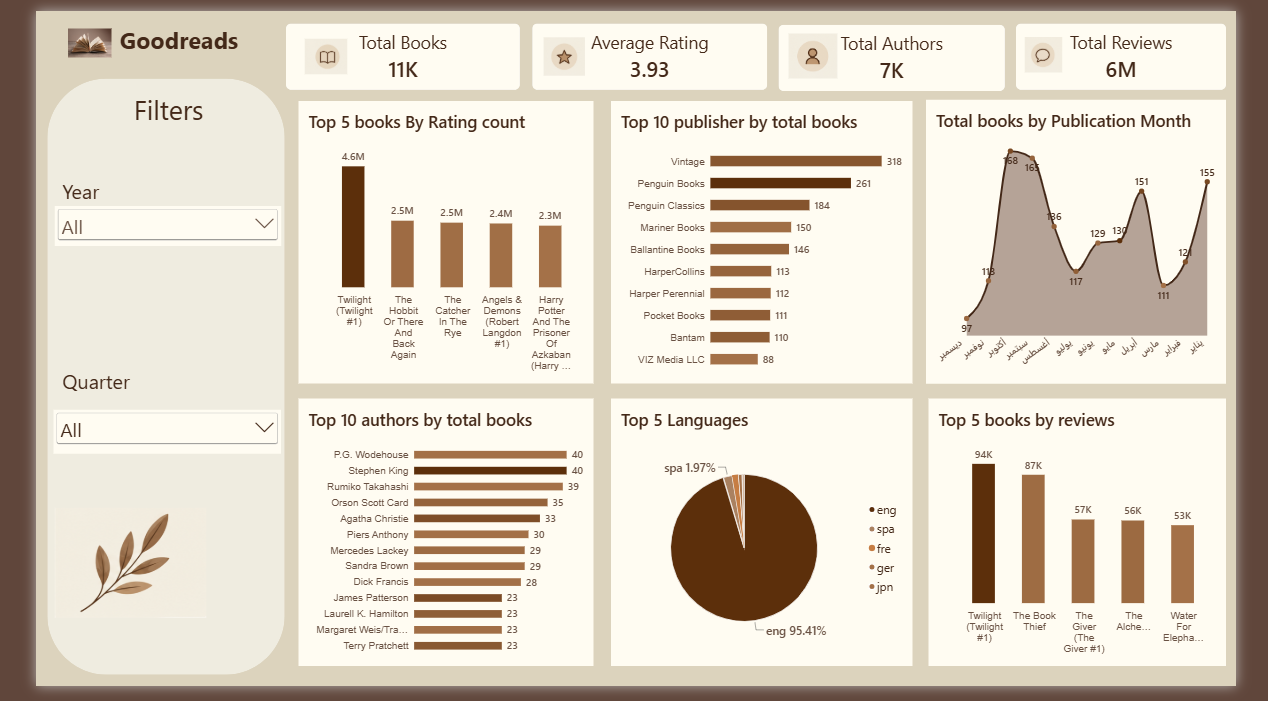

The dashboard page shown, as its layout file describes it:
{"tool":"powerbi","page":{"name":"Overview","canvas":[1920,1080],"ordinal":1},"visuals":[{"type":"cardVisual","fields":{"Data":["Measure.Total Books"]},"box":[400,20,374,106],"z":0},{"type":"cardVisual","fields":{"Data":["Measure.Average Rating"]},"box":[794,20,376,106],"z":1000},{"type":"cardVisual","fields":{"Data":["Measure.Total Authors"]},"box":[1188,22,362,106],"z":2000},{"type":"cardVisual","fields":{"Data":["Measure.Total reviews counts"]},"box":[1568,20,336,106],"z":3000},{"type":"image","box":[430,38,68,70],"z":4000},{"type":"image","box":[1204,32,78,80],"z":5000},{"type":"image","box":[1582,32,60,76],"z":6000},{"type":"image","box":[812,38,66,70],"z":7000},{"type":"shape","box":[18,108,380,954],"z":8000},{"type":"textbox","box":[72,128,300,72],"z":9000},{"type":"textbox","box":[42,266,330,60],"z":10000},{"type":"slicer","fields":{"Values":["dim date.Quarter"]},"box":[28,638,364,70],"z":11000},{"type":"slicer","fields":{"Values":["dim date.Year"]},"box":[30,312,362,64],"z":12000},{"type":"textbox","box":[42,570,268,50],"z":13000},{"type":"image","box":[30,770,242,226],"z":14000},{"type":"textbox","box":[134,20,238,92],"z":15000},{"type":"image","box":[20,28,132,46],"z":16000},{"type":"columnChart","title":"Top 5 books By Rating count","fields":{"Category":["Fact books.title"],"Y":["Sum(Fact books.ratings_count)"]},"box":[420,143.3,471.7,451.7],"z":17000},{"type":"barChart","title":"Top 10 authors by total books","fields":{"Category":["Fact books.authors"],"Y":["Measure.Total Books"]},"box":[420,620,472,428],"z":18000},{"type":"barChart","title":"Top 10 publisher by total books","fields":{"Category":["Fact books.publisher"],"Y":["Measure.Total Books"]},"box":[920,144,482,452],"z":19000},{"type":"pieChart","title":"Top 5 Languages","fields":{"Category":["Fact books.language_code"],"Y":["Measure.Total Books"]},"box":[920,620,482,428],"z":20000},{"type":"columnChart","title":"Top 5 books by reviews","fields":{"Category":["Fact books.title"],"Y":["Measure.Total Reviews"]},"box":[1428,620,476,428],"z":21000},{"type":"areaChart","title":"Total books by  Publication Month","fields":{"Category":["dim date.Month Name"],"Y":["Measure.Total Books"]},"box":[1424,142,480,454],"z":22000}]}

Visuals, with their boxes in screenshot pixels (x1, y1, x2, y2), scaled from the page's 1920x1080 canvas onto the 1268x701 screenshot:
cardVisual - Measure.Total Books: select_region(264, 13, 511, 82)
cardVisual - Measure.Average Rating: select_region(524, 13, 773, 82)
cardVisual - Measure.Total Authors: select_region(785, 14, 1024, 83)
cardVisual - Measure.Total reviews counts: select_region(1036, 13, 1257, 82)
image: select_region(284, 25, 329, 70)
image: select_region(795, 21, 847, 73)
image: select_region(1045, 21, 1084, 70)
image: select_region(536, 25, 580, 70)
shape: select_region(12, 70, 263, 689)
textbox: select_region(48, 83, 246, 130)
textbox: select_region(28, 173, 246, 212)
slicer - dim date.Quarter: select_region(18, 414, 259, 460)
slicer - dim date.Year: select_region(20, 203, 259, 244)
textbox: select_region(28, 370, 205, 402)
image: select_region(20, 500, 180, 646)
textbox: select_region(88, 13, 246, 73)
image: select_region(13, 18, 100, 48)
"Top 5 books By Rating count" columnChart: select_region(277, 93, 589, 386)
"Top 10 authors by total books" barChart: select_region(277, 402, 589, 680)
"Top 10 publisher by total books" barChart: select_region(608, 93, 926, 387)
"Top 5 Languages" pieChart: select_region(608, 402, 926, 680)
"Top 5 books by reviews" columnChart: select_region(943, 402, 1257, 680)
"Total books by  Publication Month" areaChart: select_region(940, 92, 1257, 387)
